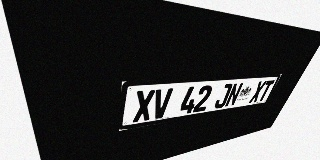2: (193, 85, 214, 113)
4: (179, 86, 200, 115)
J: (213, 83, 233, 109)
N: (224, 83, 244, 107)
T: (257, 80, 275, 102)
V: (151, 88, 173, 120)
X: (133, 89, 155, 123), (248, 81, 267, 103)
